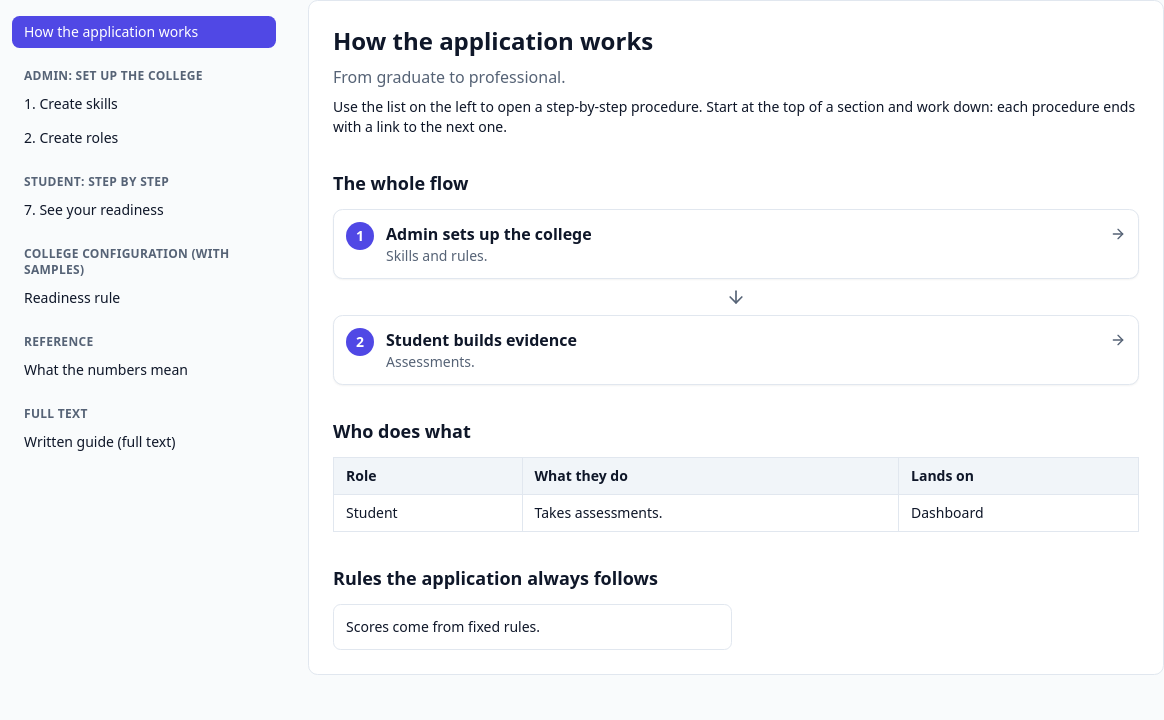
Test: GuidePage (left sidebar, step-by-step) › shows numbered steps with bold UI names, expected results, results and troubleshooting
Step 1. Click the button "1. Create skills" → [71, 104], box [12,88,276,120]
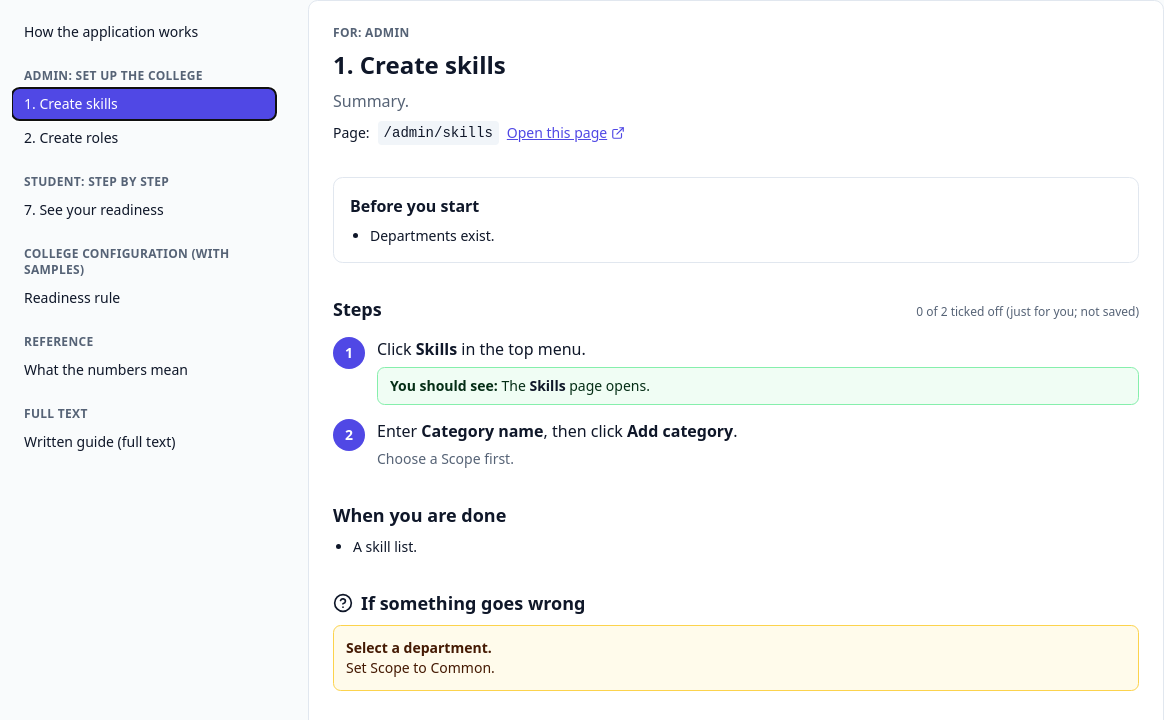
Check: the heading "1. Create skills" is shown, box [333,48,506,81]
Check: the text "Departments exist." is shown, box [370,226,495,245]
Check: the text "Skills" next to "in the top menu." is shown, box [416,338,457,360]
